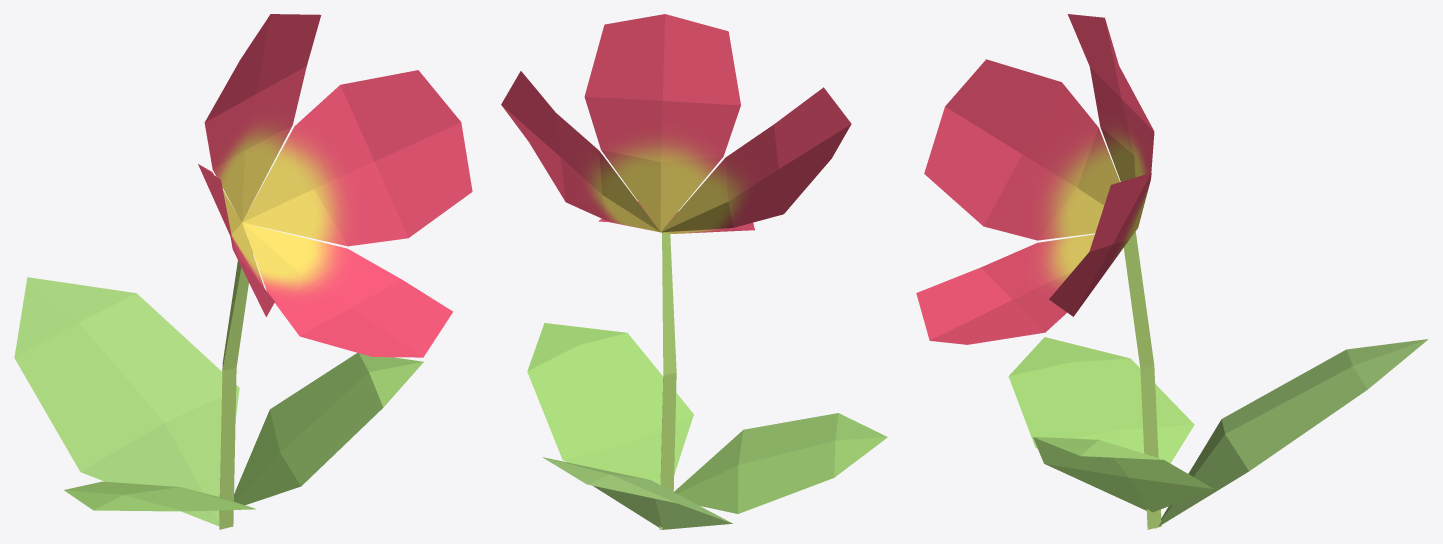
Rendered from Flower_c_TwoS_09.fbx.
The picture shows the model from 3 angles, left to right: view 1: azimuth 30°, elevation 25°; view 2: azimuth 150°, elevation 25°; view 3: azimuth 270°, elevation 25°; orthographic projection. The views are drawn at different scales.
Visible parts, largest first — view 1: Flower_c_TwoS_09; view 2: Flower_c_TwoS_09; view 3: Flower_c_TwoS_09.
Part boxes in pixels (box(x1,y1,x2,y2)): Flower_c_TwoS_09: box(14, 14, 472, 529); Flower_c_TwoS_09: box(501, 14, 887, 529); Flower_c_TwoS_09: box(916, 14, 1428, 529).
Size of the model in its own units: 33.25 by 42.86 by 38.13.
